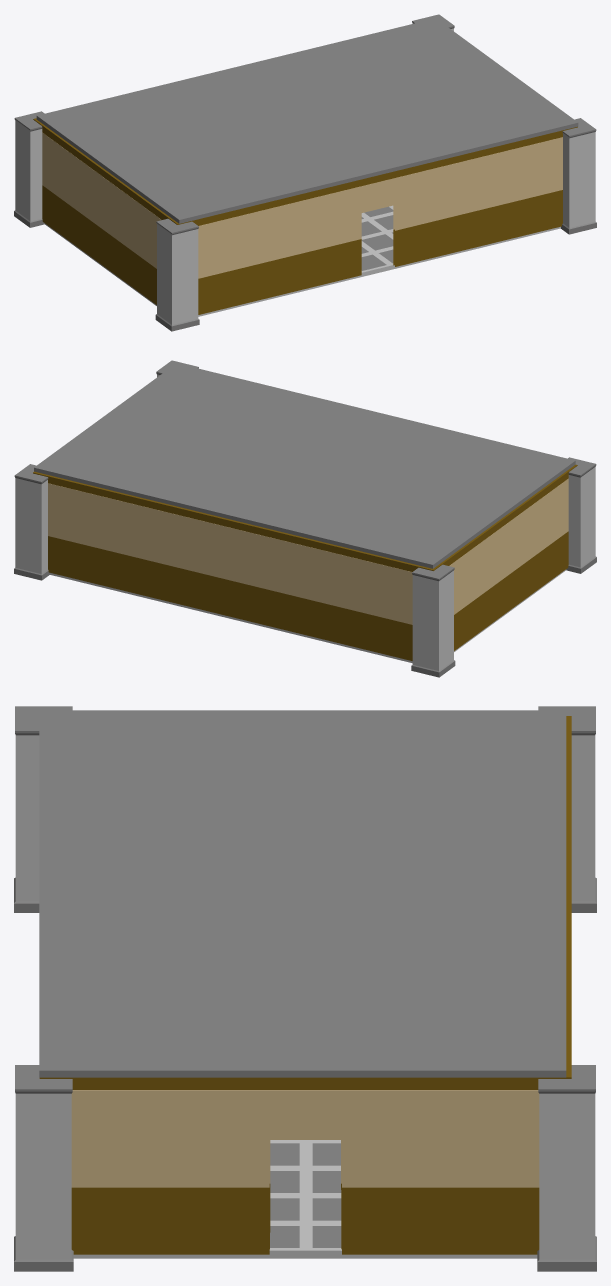
File: Test__Room_02.fbx
The picture shows the model from 3 angles, top to bottom: view 1: azimuth 30°, elevation 25°; view 2: azimuth 150°, elevation 25°; view 3: azimuth 270°, elevation 25°; orthographic projection. The views are drawn at different scales.
Visible parts, largest first — view 1: Roof, Wall, Pole, Wall.Upper, Floor; view 2: Roof, Wall, Pole, Wall.Upper, Floor; view 3: Roof, Wall, Pole, Floor, Wall.Upper.
Boxes of the visible parts, box(x1,y1,x2,y2) form: Roof: box(36, 18, 578, 223); Wall: box(42, 132, 562, 314); Pole: box(14, 14, 596, 331); Wall.Upper: box(33, 118, 577, 225); Floor: box(44, 205, 560, 316); Roof: box(34, 363, 575, 568); Wall: box(48, 478, 568, 660); Pole: box(14, 360, 596, 677); Wall.Upper: box(33, 464, 577, 571); Floor: box(49, 569, 566, 663); Roof: box(39, 710, 566, 1077); Wall: box(71, 1090, 539, 1254); Pole: box(14, 706, 596, 1271); Floor: box(73, 1140, 537, 1258); Wall.Upper: box(39, 716, 571, 1089).
Bounding box in the file's own units: 1619 × 375 × 1040.
